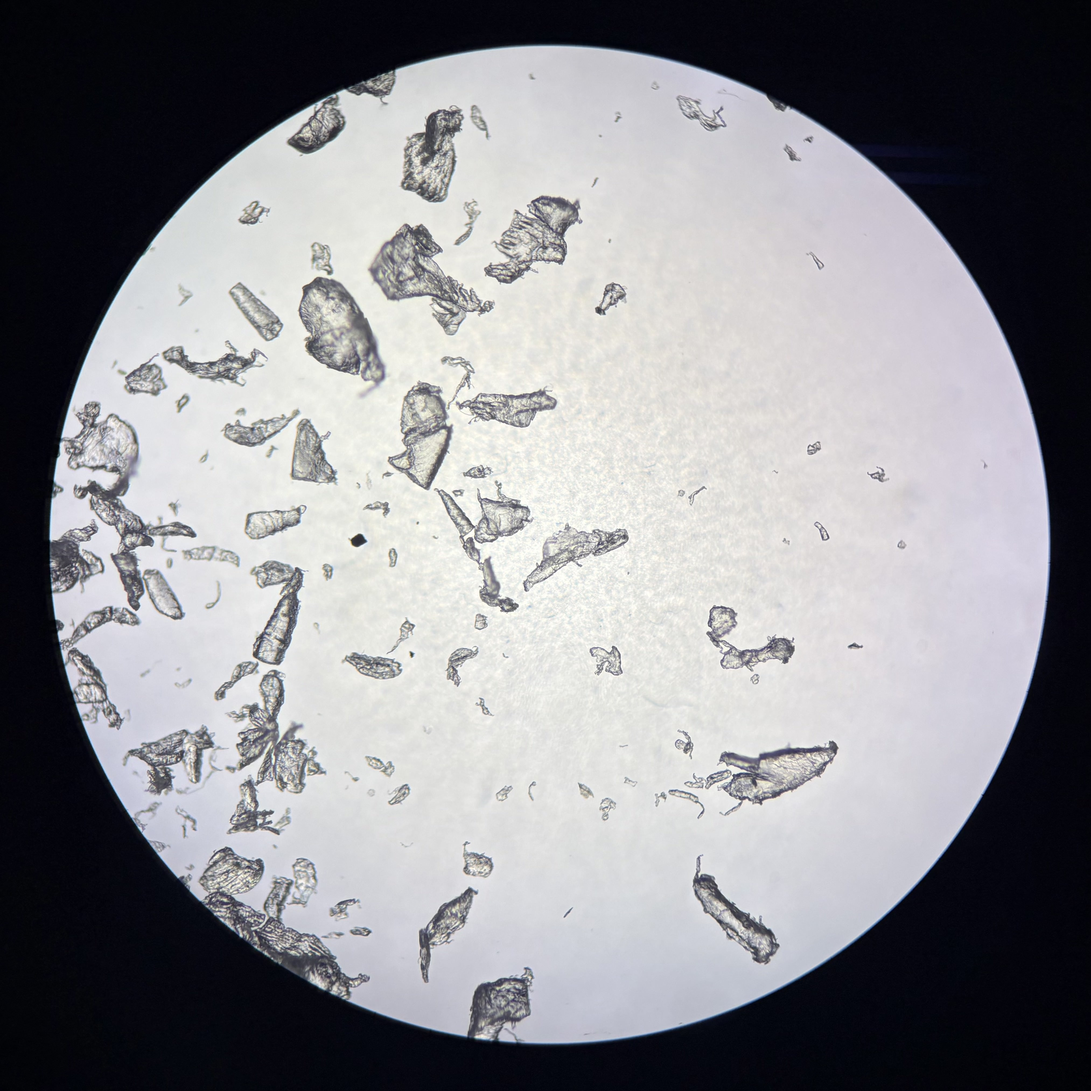microplastic: (197, 891, 371, 1001), (368, 223, 495, 335), (223, 670, 328, 794), (298, 277, 386, 398), (434, 488, 519, 612), (692, 854, 780, 966), (484, 195, 583, 286), (51, 401, 140, 498), (717, 741, 839, 806), (89, 495, 155, 611), (121, 725, 229, 795), (522, 522, 628, 593), (388, 380, 454, 491), (398, 105, 465, 203), (250, 561, 309, 666), (705, 606, 795, 672), (418, 886, 478, 983), (466, 967, 535, 1043), (62, 648, 124, 731), (456, 383, 557, 428), (162, 346, 268, 387), (49, 519, 105, 595), (473, 481, 535, 545), (55, 606, 142, 651), (226, 775, 291, 835), (286, 93, 346, 157), (289, 418, 339, 486), (197, 846, 265, 896), (228, 282, 285, 341), (221, 407, 300, 448), (142, 568, 186, 621), (244, 504, 307, 540), (120, 353, 168, 397), (675, 94, 727, 132), (345, 68, 396, 106), (440, 356, 475, 411), (213, 660, 258, 701), (341, 652, 403, 680), (286, 858, 319, 908), (263, 875, 295, 926), (445, 646, 479, 688), (453, 198, 482, 246), (181, 545, 240, 568), (126, 800, 163, 834), (463, 840, 494, 878), (595, 282, 629, 316), (386, 617, 416, 655), (668, 789, 705, 819), (590, 646, 624, 676), (684, 769, 731, 789), (237, 200, 271, 225), (310, 242, 334, 276), (470, 104, 492, 141), (328, 898, 363, 921), (148, 522, 197, 538), (175, 805, 198, 839), (157, 515, 177, 552), (364, 755, 395, 777), (674, 729, 693, 760), (386, 784, 411, 806), (766, 94, 793, 113), (176, 864, 195, 891), (205, 580, 221, 610), (363, 501, 391, 518), (144, 837, 171, 854), (463, 465, 494, 479), (474, 697, 495, 717), (718, 88, 748, 102), (599, 797, 616, 821), (177, 282, 194, 306), (805, 251, 825, 271), (688, 485, 707, 506), (719, 800, 743, 816), (867, 466, 890, 482), (782, 143, 802, 161), (174, 393, 191, 414), (813, 521, 830, 541), (577, 781, 595, 799), (356, 471, 372, 491), (348, 533, 368, 548), (496, 786, 514, 801), (349, 926, 372, 937), (474, 613, 488, 630), (168, 498, 181, 516), (322, 563, 334, 582), (264, 445, 279, 459), (173, 677, 192, 688), (654, 791, 667, 807), (388, 548, 398, 568), (807, 441, 821, 455), (321, 931, 345, 939), (528, 781, 537, 801), (197, 449, 209, 463), (344, 771, 359, 782), (624, 775, 637, 787), (847, 642, 864, 650), (381, 471, 394, 481), (614, 110, 623, 124), (563, 906, 573, 918), (235, 407, 247, 417), (750, 674, 760, 685), (802, 135, 814, 144), (591, 176, 600, 188), (453, 489, 465, 498), (313, 622, 321, 635), (898, 539, 907, 549), (980, 459, 989, 469), (651, 80, 660, 90), (166, 557, 173, 569), (400, 842, 414, 848), (677, 489, 686, 497), (367, 788, 375, 797), (409, 650, 417, 659), (782, 538, 790, 546), (528, 72, 536, 80), (502, 652, 509, 659), (432, 534, 439, 540), (607, 237, 612, 244), (618, 744, 629, 747), (772, 470, 779, 474)
